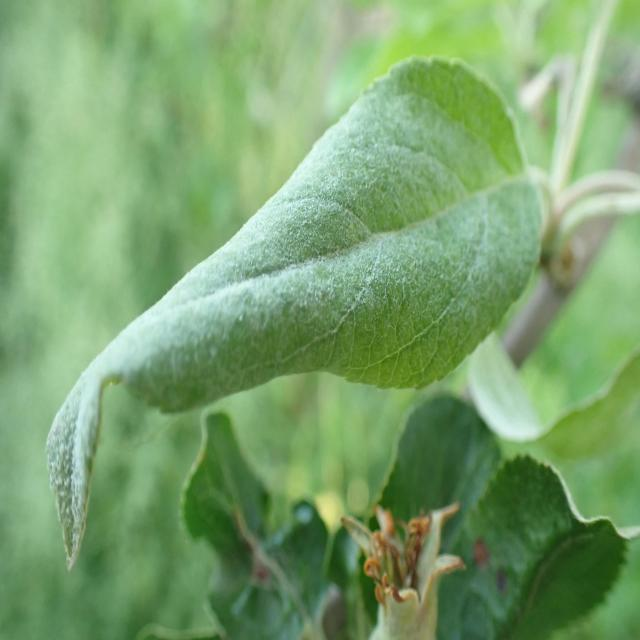Powdery_mildew: (24, 52, 532, 568)
